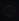Speed Limit -80-: (0, 1, 18, 20)
